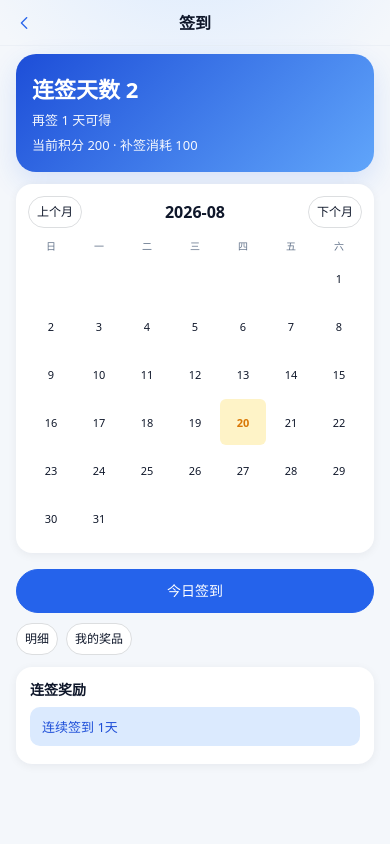
Scenario: SigninPage › loads only the requested adjacent month
This screenshot has width=390, height=844.
Click the button with test id "signin-prev-month".
click(55, 212)  # box [28,196,82,228]
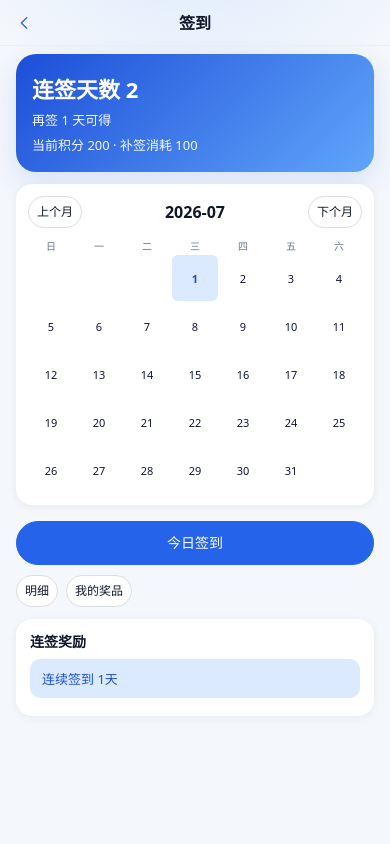
Now the text with test id "signin-year-month" reads "2026-07", box [165,201,225,223]
